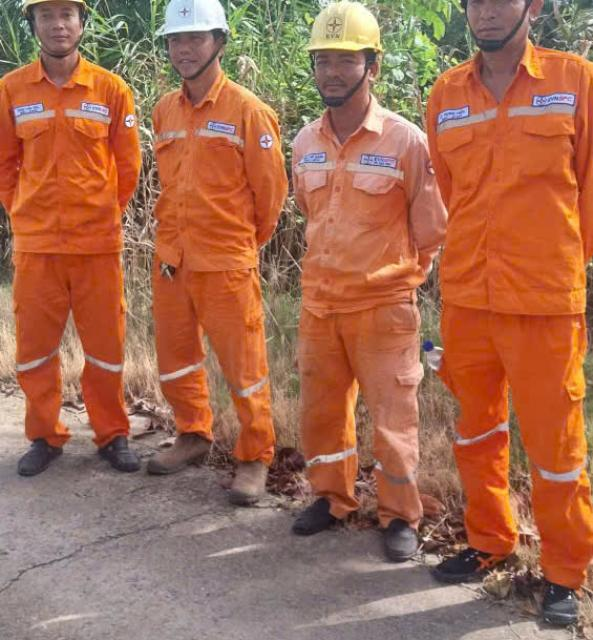helmet: (296, 0, 400, 74), (136, 0, 243, 51)
shoes: (138, 410, 217, 483), (441, 521, 522, 592), (283, 482, 364, 548), (11, 427, 89, 488), (226, 435, 281, 513), (530, 572, 593, 635), (378, 506, 426, 570), (85, 428, 148, 476)
